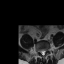CCS_normal: (42, 49, 44, 57)
LFS_stenosis: (45, 47, 48, 52)
LLS_normal: (44, 49, 45, 56)
RFS_severe_stenosis: (39, 49, 40, 54)
RLS_normal: (40, 49, 42, 55)
